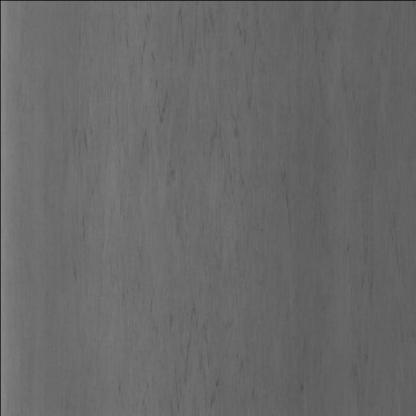silk_spot: (119, 17, 327, 407)
